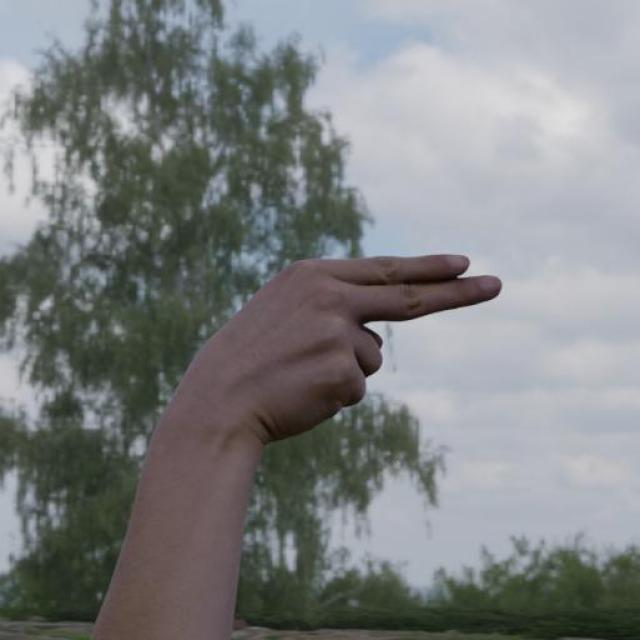H: (148, 242, 508, 486)
